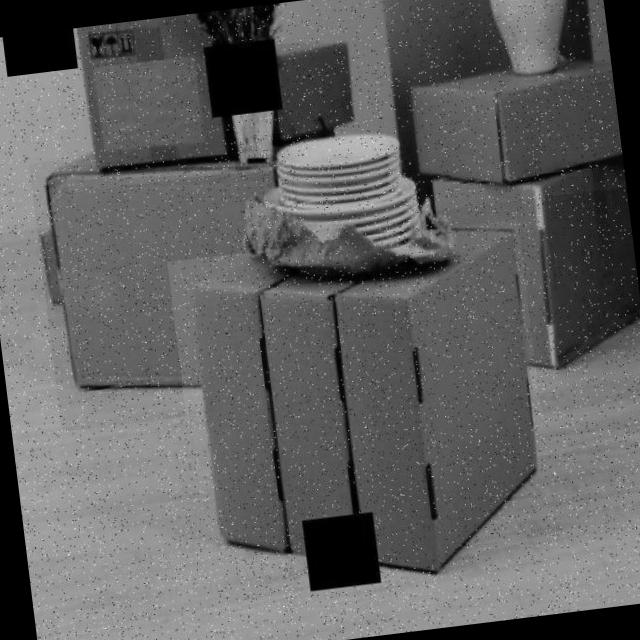box: (167, 219, 561, 618), (28, 132, 316, 431), (419, 143, 640, 428), (399, 31, 626, 212), (48, 11, 236, 192)
